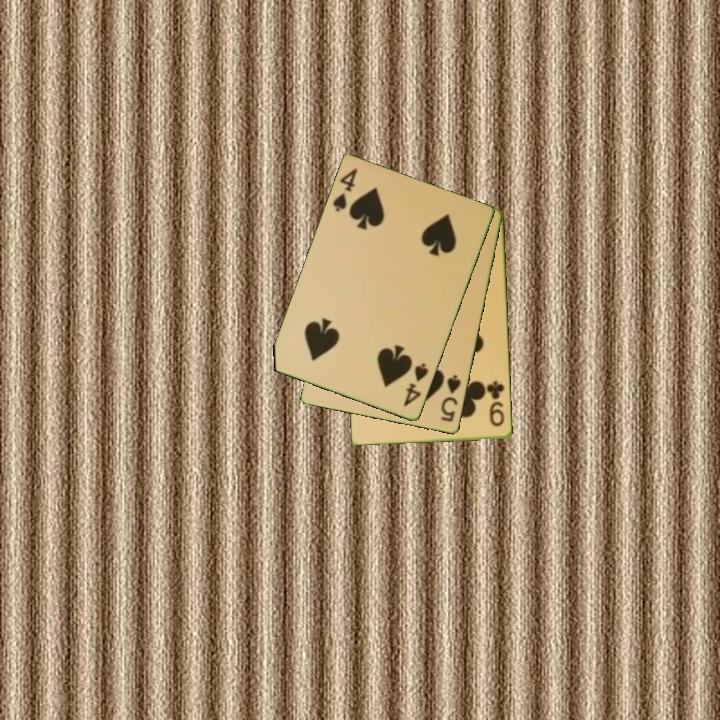4s: (329, 165, 361, 215), (400, 360, 431, 410)
5s: (437, 372, 464, 425)
9c: (484, 378, 507, 429)
